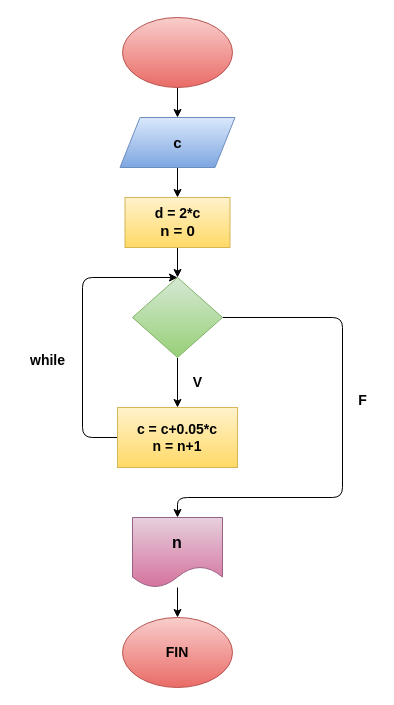
The diagram is 394 pixels wide and 705 high, and some of its shapes have lost their labels. The shapes that lost their labels are listed below. From the top down, each one's box as (x1, y1, x2, y2) in pixels, then its label:
(122, 16, 232, 88): INICIO
(132, 276, 222, 358): c < d
